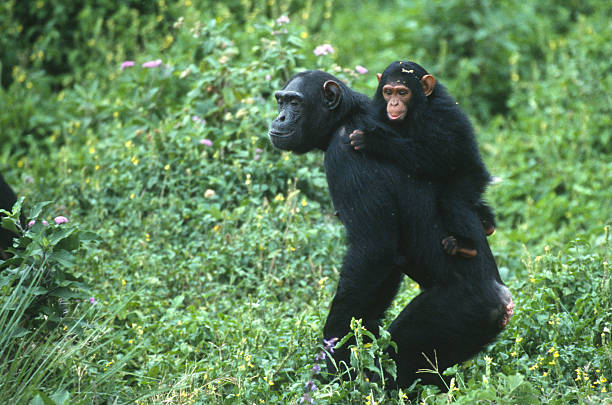chimpanzee: (250, 60, 357, 157), (368, 51, 454, 136)
